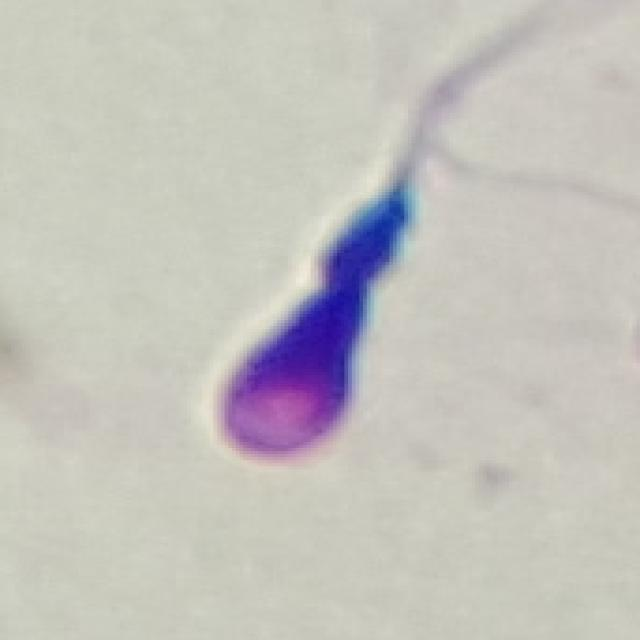abnormal sperm: (197, 73, 468, 482)
